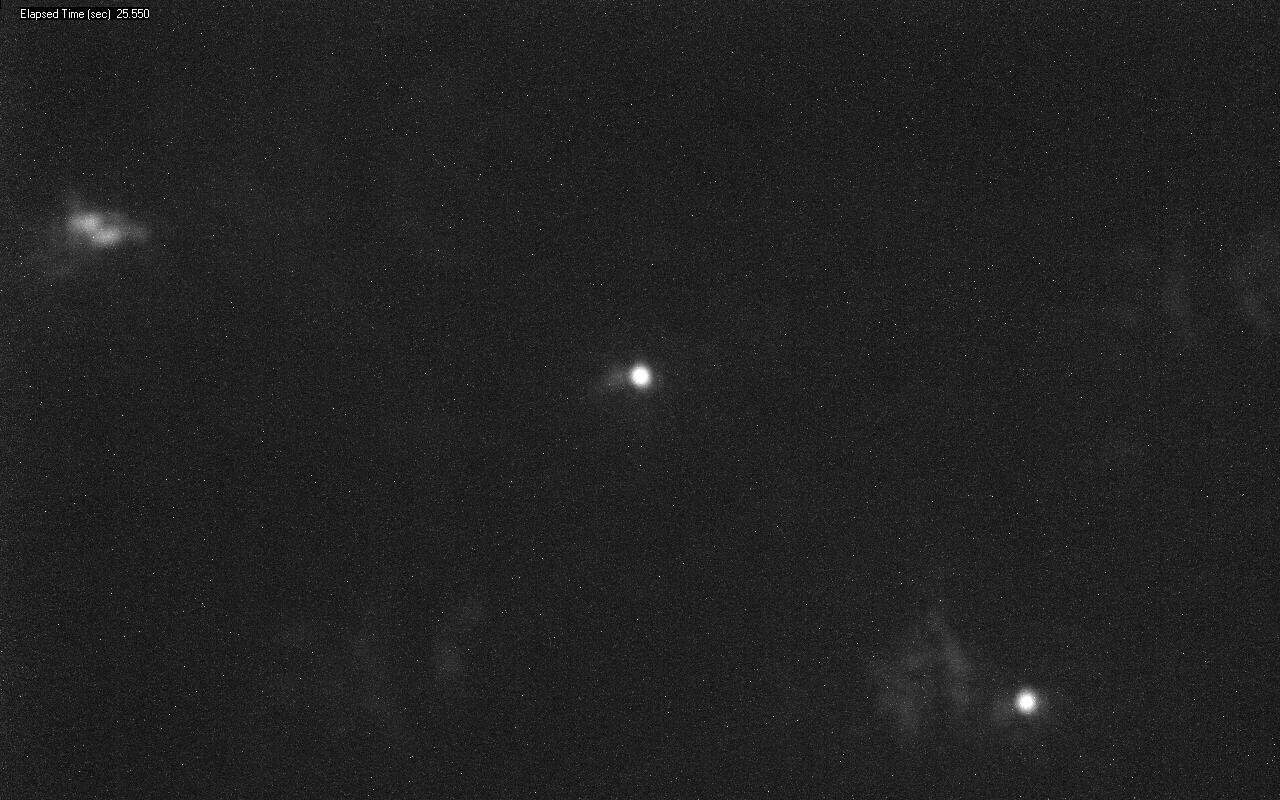Bead: (628, 363, 651, 388), (1017, 690, 1037, 712)
